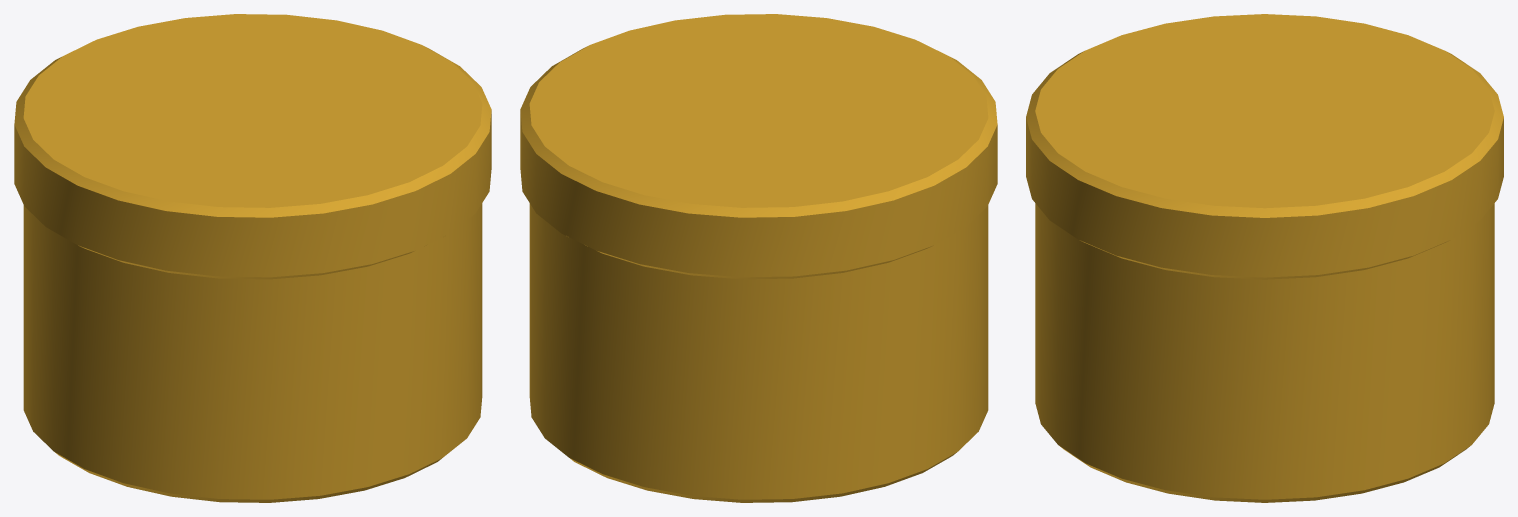
The model's file is cookie_tin.glb.
The picture shows the model from 3 angles, left to right: view 1: azimuth 30°, elevation 25°; view 2: azimuth 150°, elevation 25°; view 3: azimuth 270°, elevation 25°; orthographic projection.
Visible parts, largest first — view 1: cookie_tin; view 2: cookie_tin; view 3: cookie_tin.
Boxes of the visible parts, box(x1,y1,x2,y2) form: cookie_tin: box(14, 14, 491, 502); cookie_tin: box(520, 14, 997, 502); cookie_tin: box(1026, 14, 1503, 502).
Bounding box in the file's own units: 0.09 × 0.0618 × 0.09.
